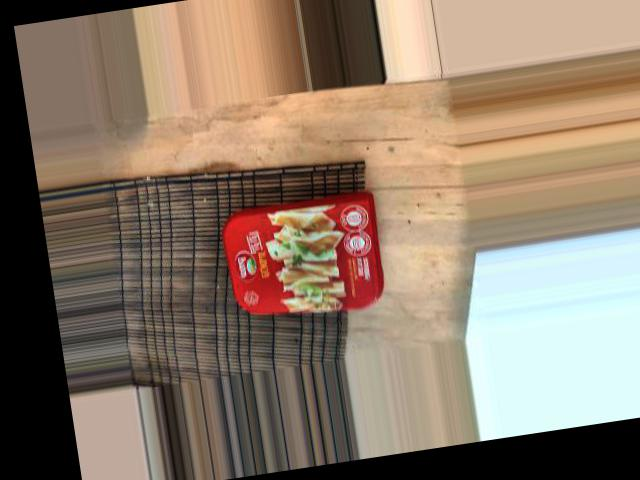cheese: (211, 207, 392, 336)
